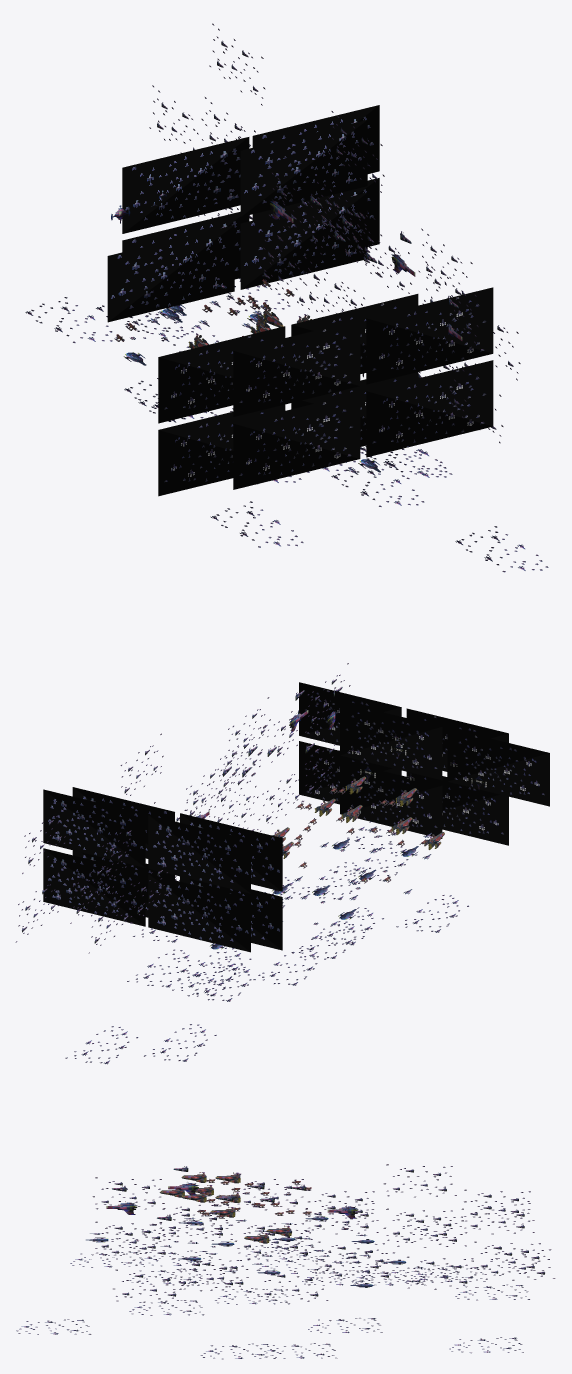
Rendered from stg310_10.obj.
The picture shows the model from 3 angles, top to bottom: view 1: azimuth 30°, elevation 25°; view 2: azimuth 150°, elevation 25°; view 3: azimuth 270°, elevation 25°; orthographic projection. The views are drawn at different scales.
Visible parts, largest first — view 1: polygon8, polygon7, polygon1; view 2: polygon8, polygon7, polygon1, polygon3, polygon2; view 3: polygon7, polygon1, polygon3, polygon2.
Part boxes in pixels (x1,y1,x2,y2): polygon8: (107, 105, 493, 496); polygon7: (25, 23, 548, 572); polygon1: (123, 194, 462, 474); polygon8: (43, 682, 549, 952); polygon7: (15, 663, 468, 1064); polygon1: (196, 687, 431, 949); polygon3: (272, 776, 366, 858); polygon2: (391, 788, 444, 849); polygon7: (16, 1164, 555, 1359); polygon1: (86, 1166, 406, 1287); polygon3: (181, 1192, 291, 1243); polygon2: (159, 1172, 240, 1197).
Size of the model in its own units: 40111 by 25415 by 68051.
6 materials, 6 textured.
